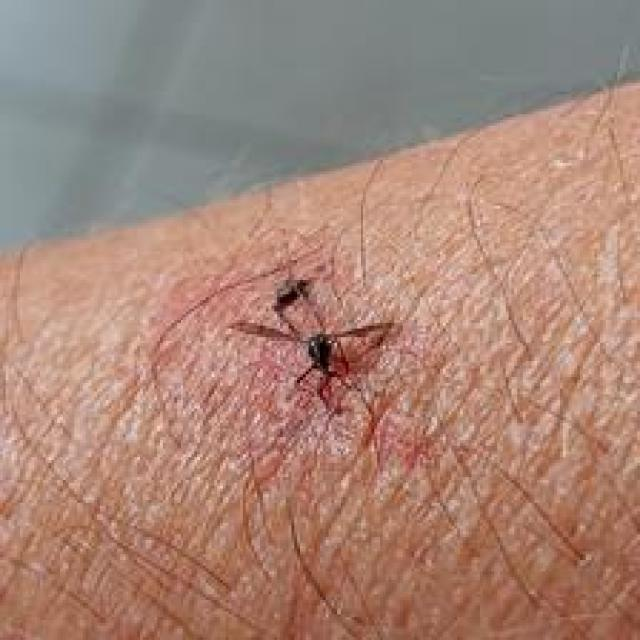Aedes albopictus: (227, 279, 399, 424)
